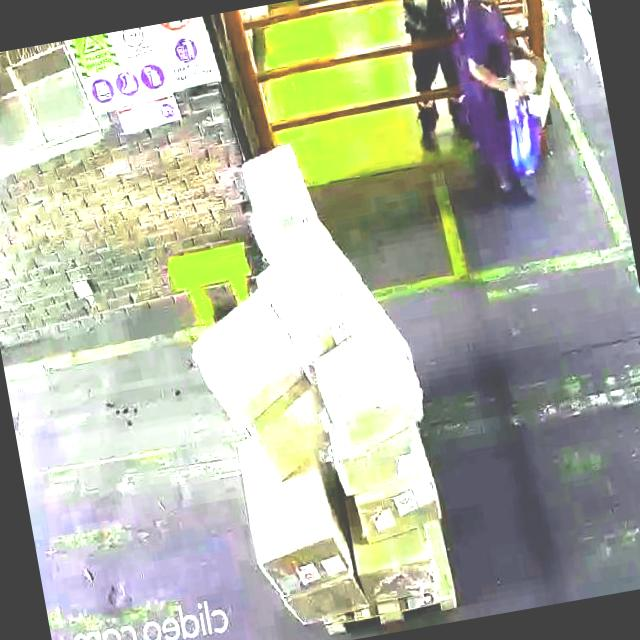Box: (312, 318, 432, 462), (190, 297, 302, 421), (242, 464, 344, 596), (270, 230, 350, 350), (248, 378, 334, 482), (238, 136, 319, 245), (348, 528, 438, 611), (350, 474, 444, 550), (331, 431, 426, 496), (281, 574, 365, 630)
